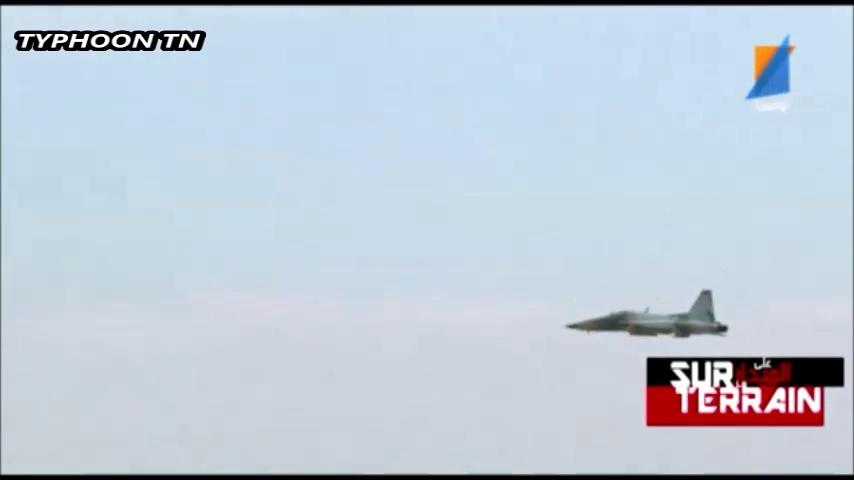Airplane: (563, 288, 729, 337)
